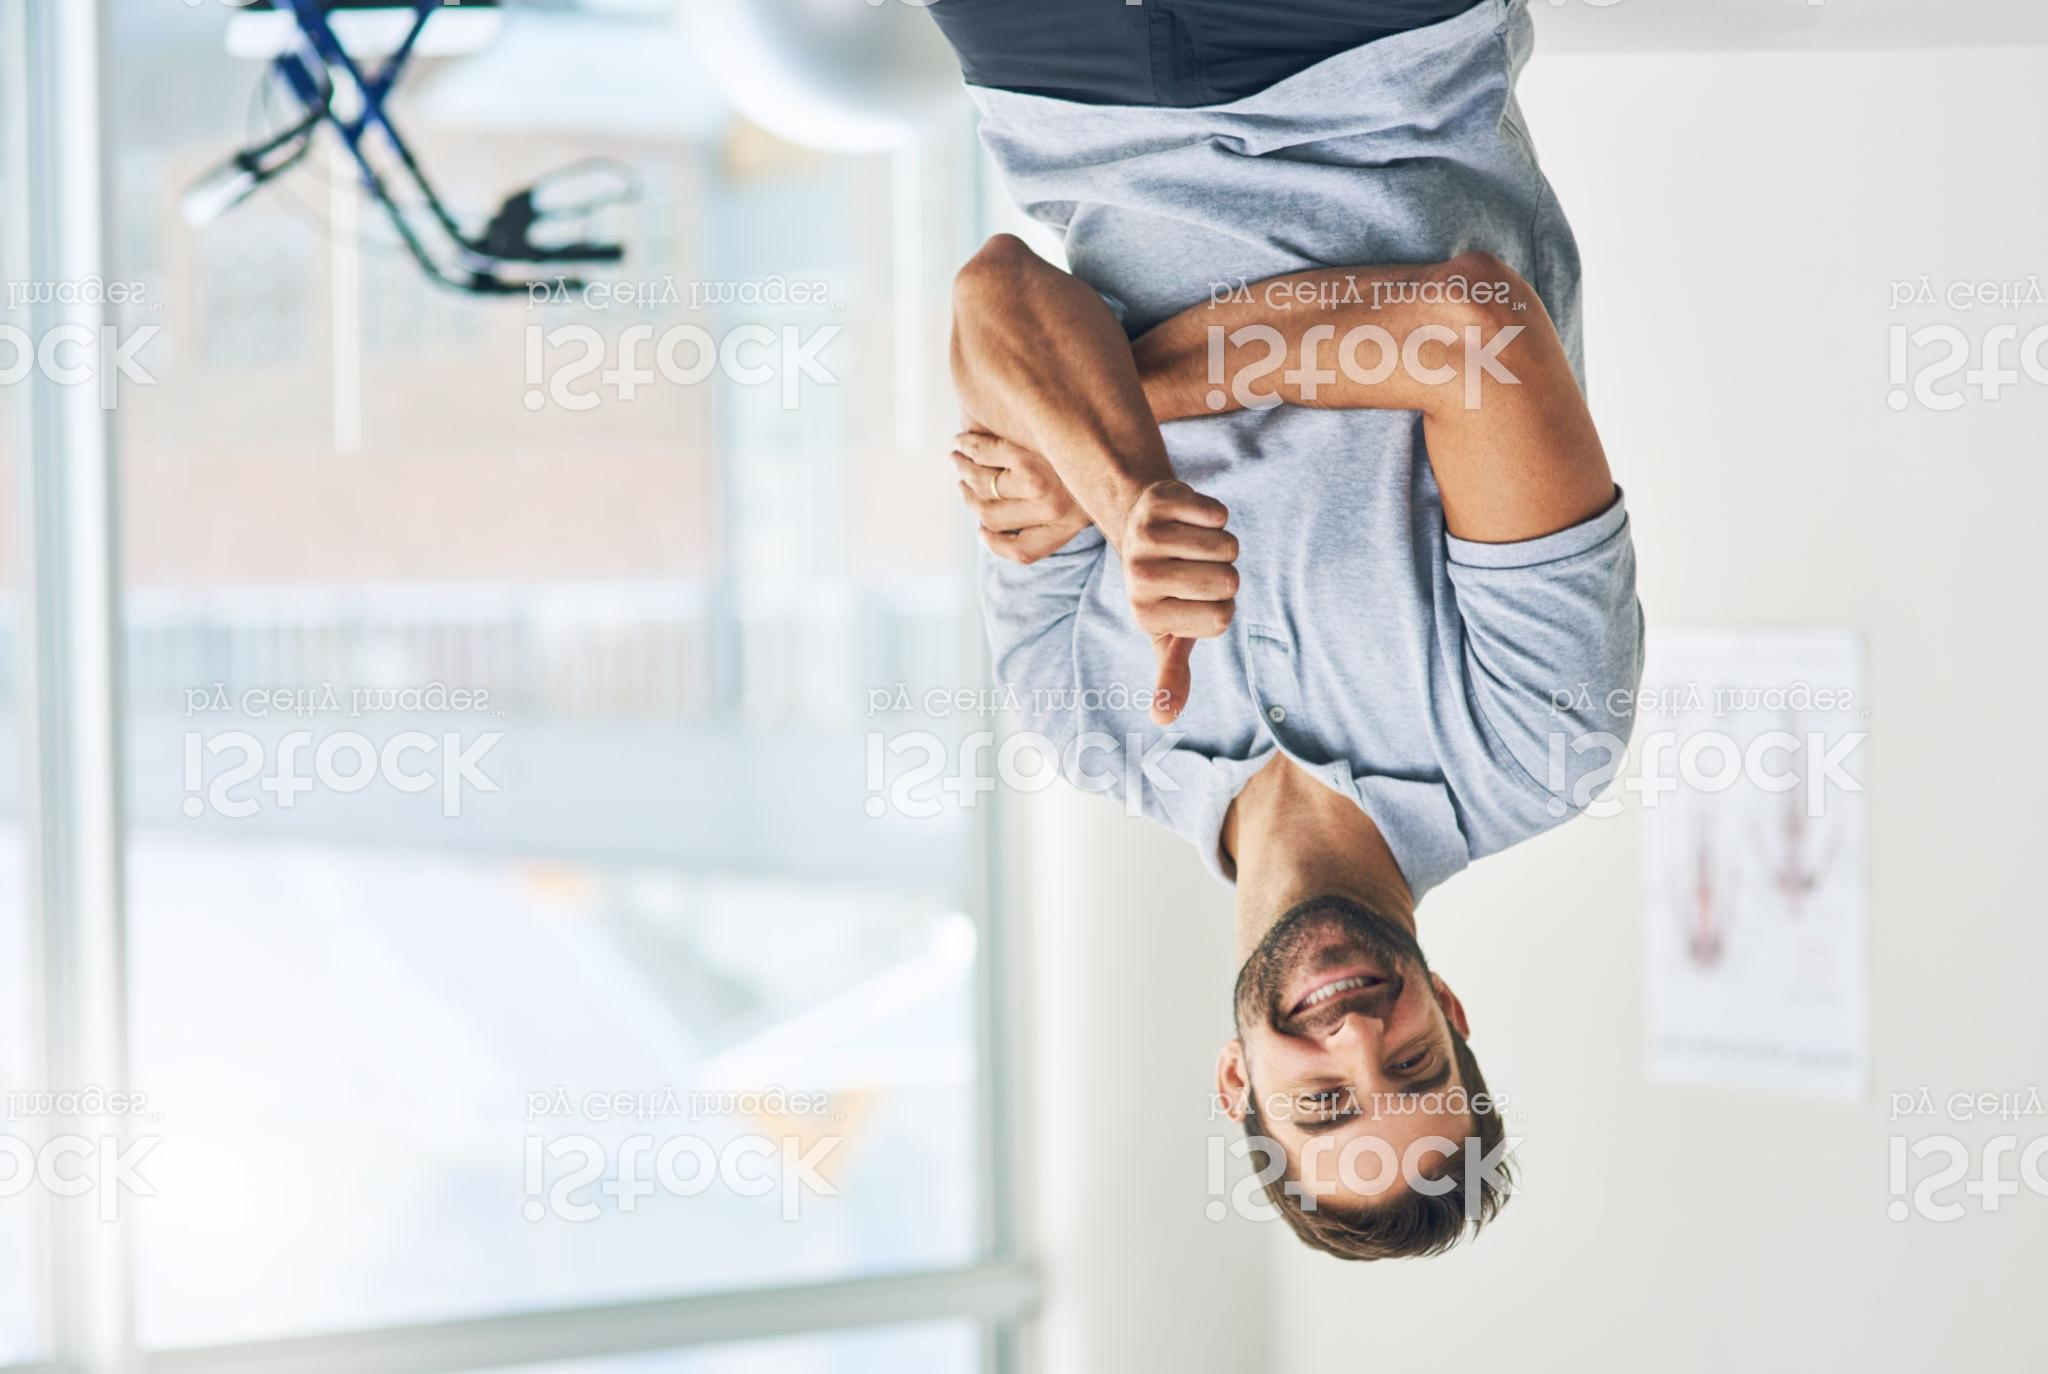thumbsdown: (1119, 475, 1243, 730)
